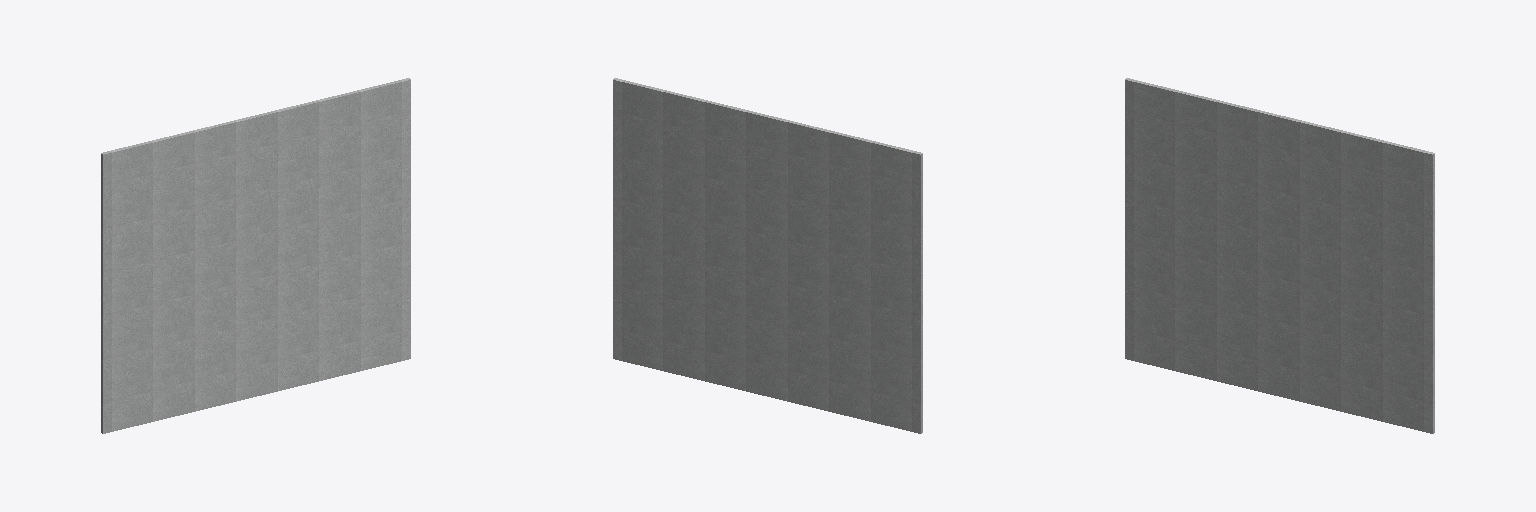
3 views of the same model, side by side, from view 1: azimuth 30°, elevation 25°; view 2: azimuth 150°, elevation 25°; view 3: azimuth 330°, elevation 25° (orthographic).
Size of the model in its own units: 7.43 by 6.43 by 0.1.
1 materials, 1 textured.